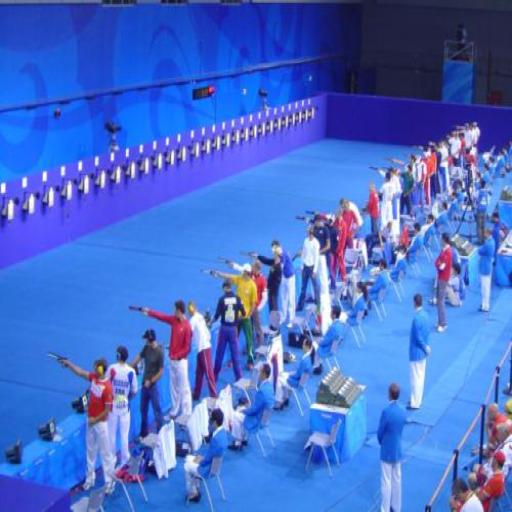shooting: (55, 352, 120, 500), (127, 297, 197, 429), (239, 237, 290, 343), (215, 246, 269, 346), (207, 264, 255, 370), (291, 218, 334, 301), (304, 201, 345, 285), (370, 161, 407, 237), (444, 118, 484, 175), (401, 146, 433, 212), (424, 132, 446, 184)
